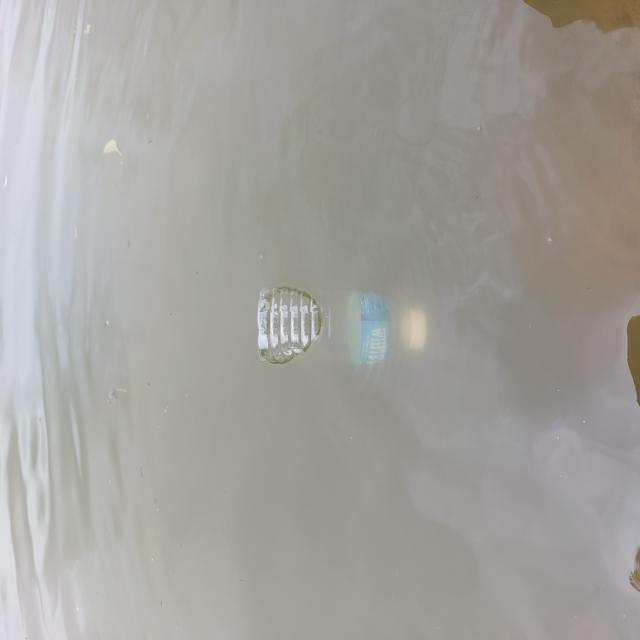waterbottle: (237, 264, 422, 373)
